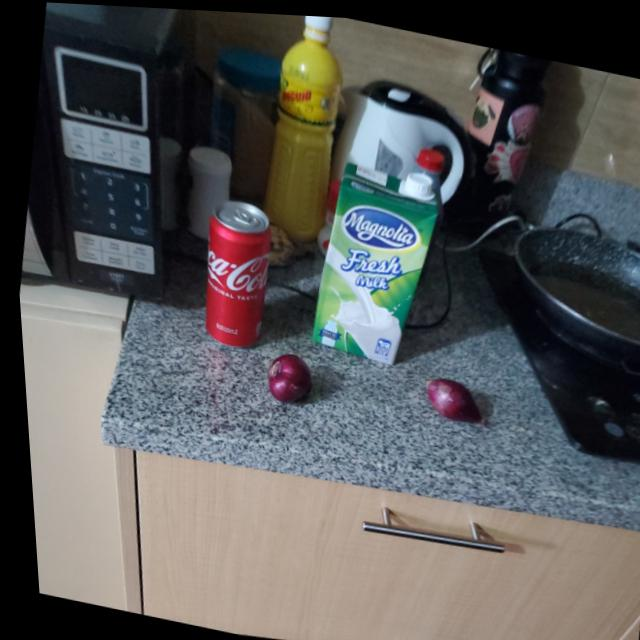coke: (185, 189, 282, 354)
milk: (294, 149, 450, 367)
onion: (419, 371, 482, 424), (259, 346, 313, 406)
